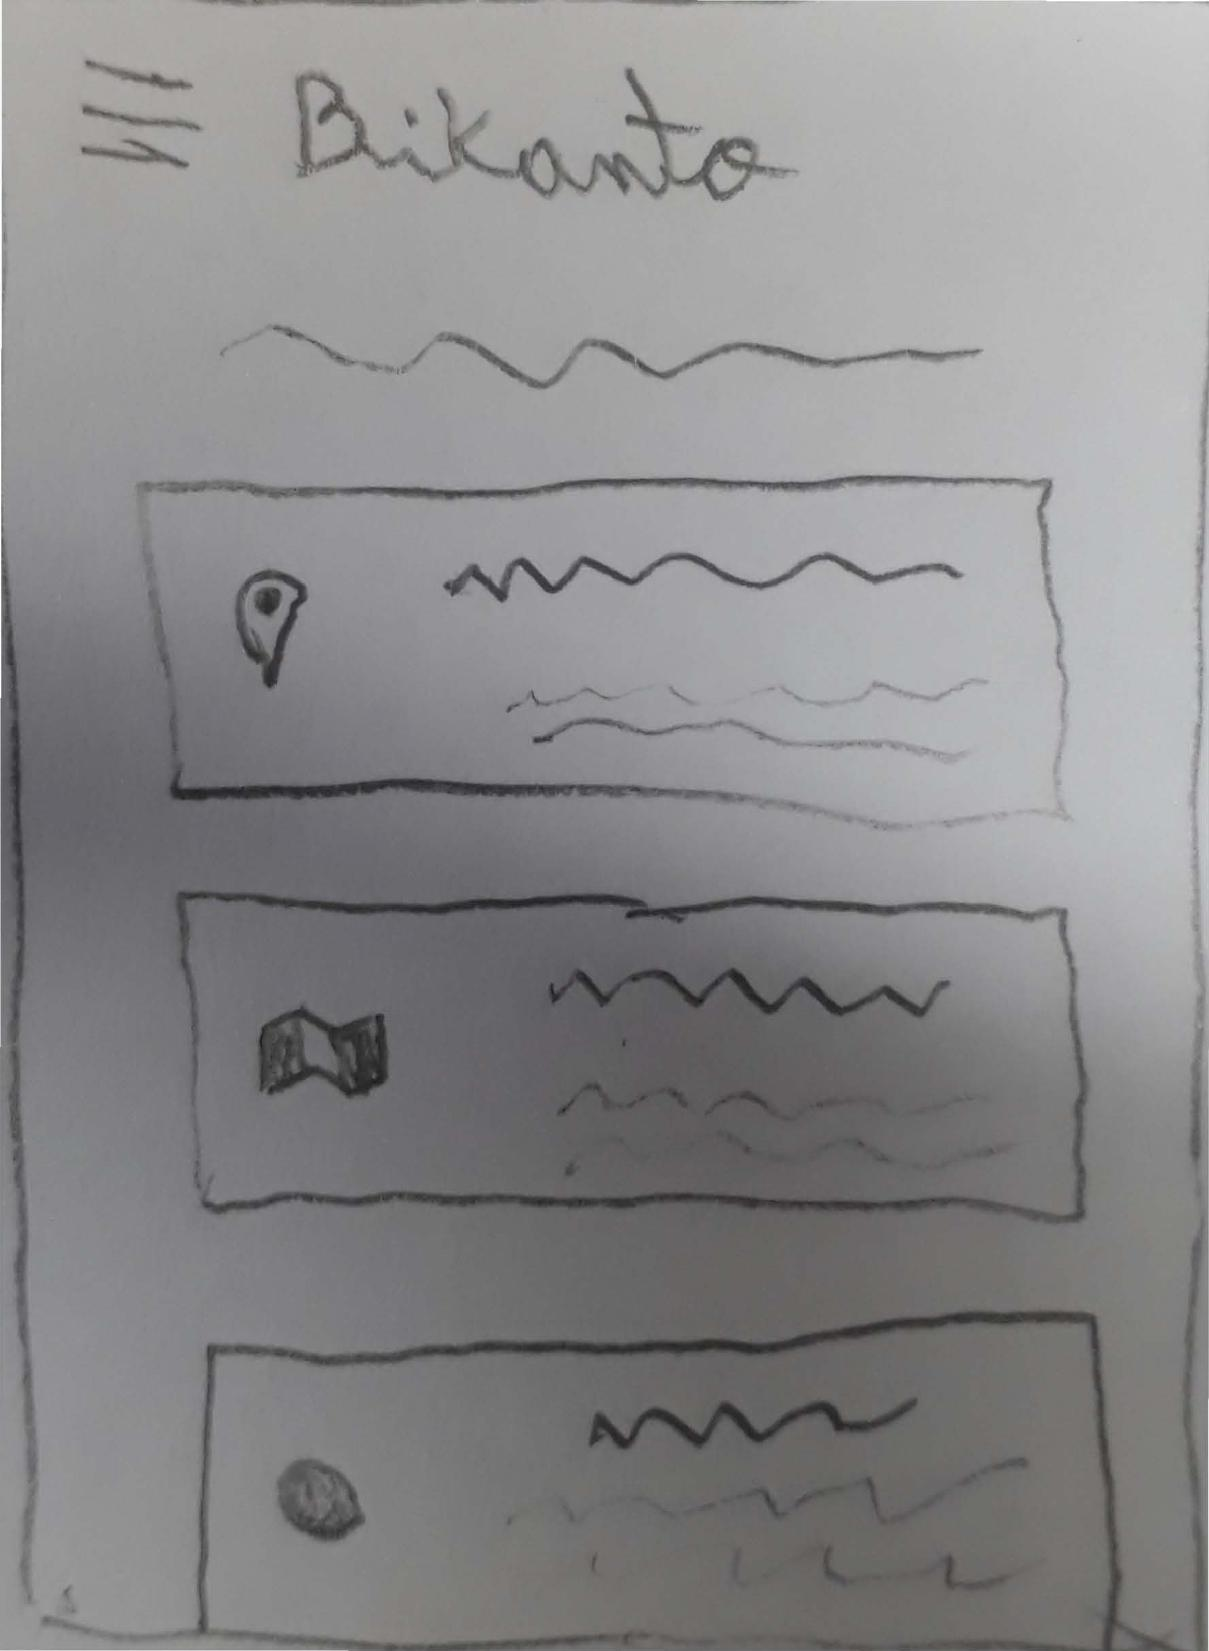Button: (71, 55, 205, 174)
Label: (434, 540, 995, 771), (499, 1401, 1056, 1597), (535, 958, 1023, 1179), (287, 56, 794, 180), (216, 319, 988, 390)
Screen: (2, 2, 1206, 1649)
